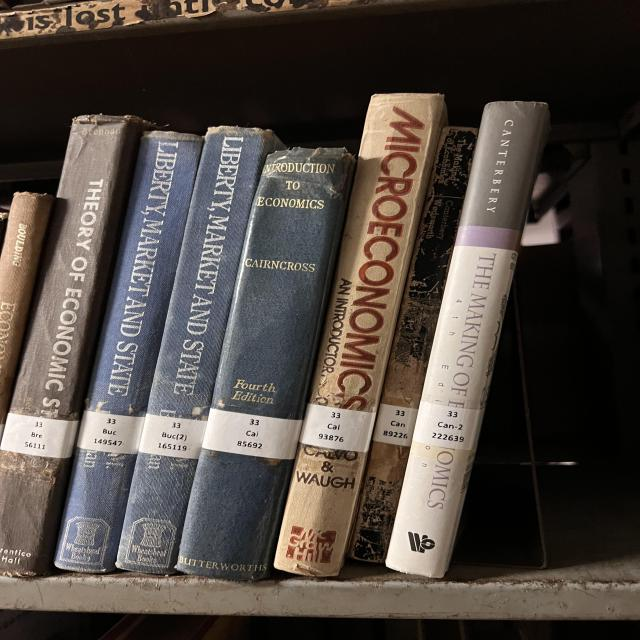Book: (273, 94, 447, 578), (387, 101, 550, 578), (175, 148, 353, 580), (117, 126, 285, 575), (0, 115, 150, 576), (55, 131, 203, 574), (348, 126, 477, 562)
Label: (202, 409, 302, 459), (300, 404, 377, 452), (0, 412, 78, 459), (413, 401, 483, 450), (138, 414, 207, 459), (77, 410, 145, 454), (373, 404, 418, 446)
